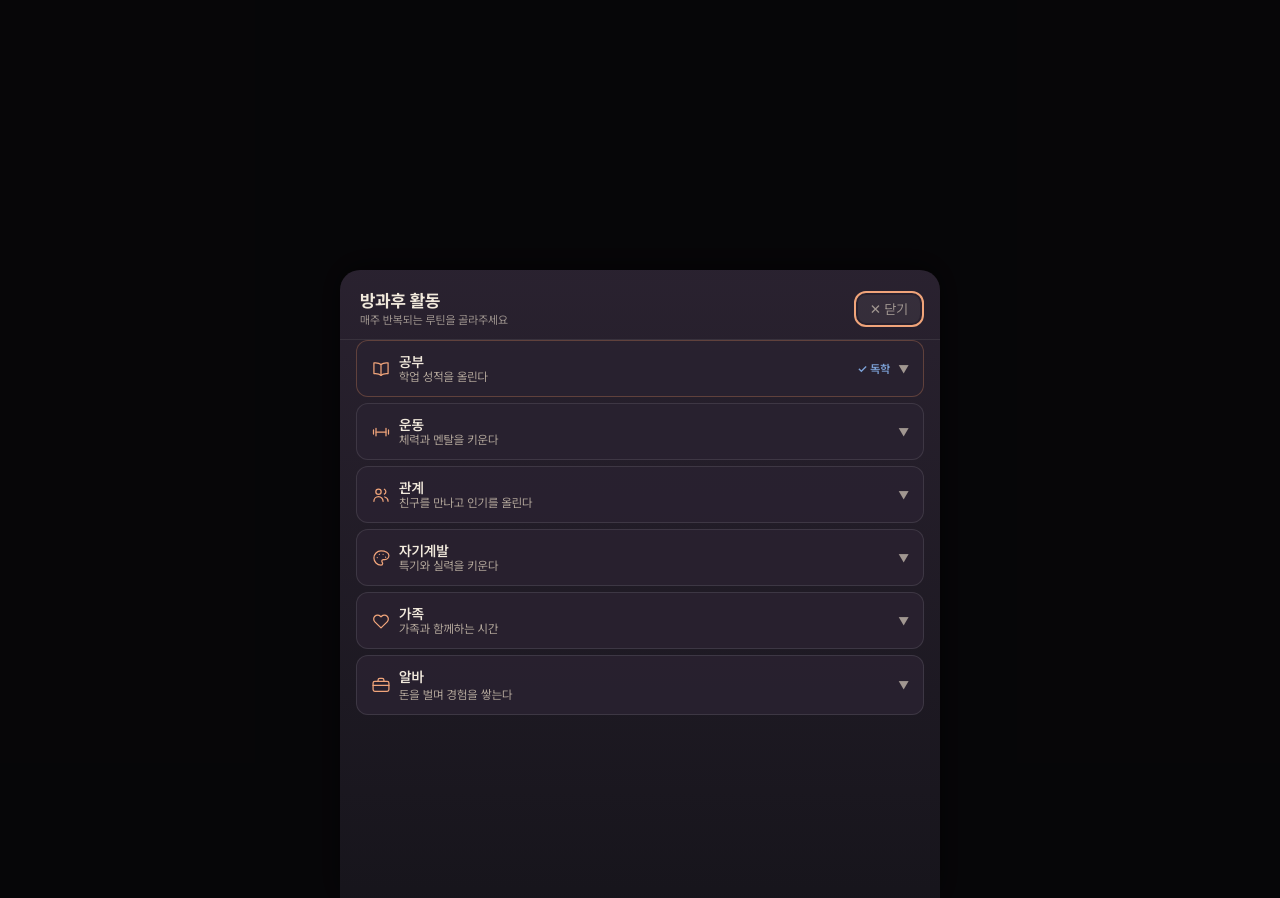
Scenario: 루틴 피커 — 이 선택 때문에 이번 주를 확정할 수 없게 되면 막는다(엔진 판정, 플래그 꺼짐에도 나가는 경로) › 지금 잔액으로 못 내면 막는다 — 주말 알바로 들어올 수입으로는 고르는 순간 내는 학원비를 못 낸다
Step 1. Click the button "공부 학업 성적을 올린다 ✓ 독학 ▼" → [444, 377], box top-left (357, 341), bottom-right (923, 396)
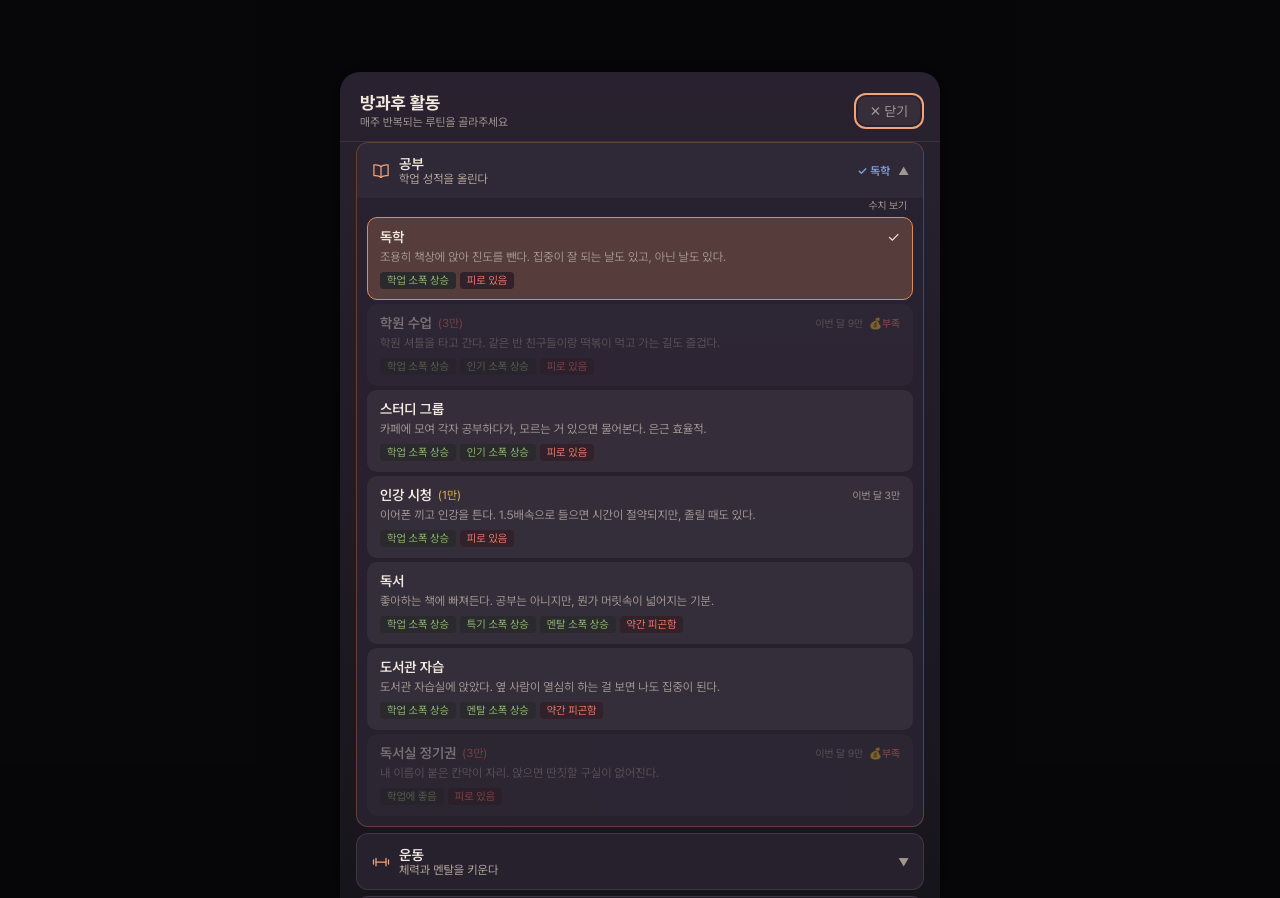
Expected: the button that starts with "학원 수업" is disabled, top-left (367, 304), bottom-right (913, 386)
